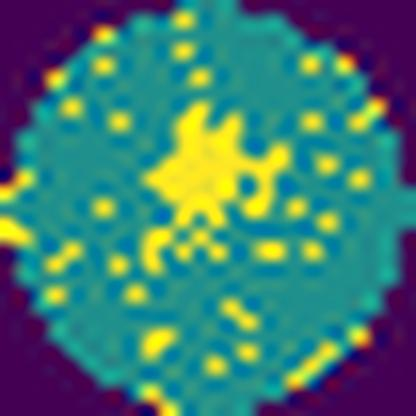Center: (139, 98, 288, 229)
